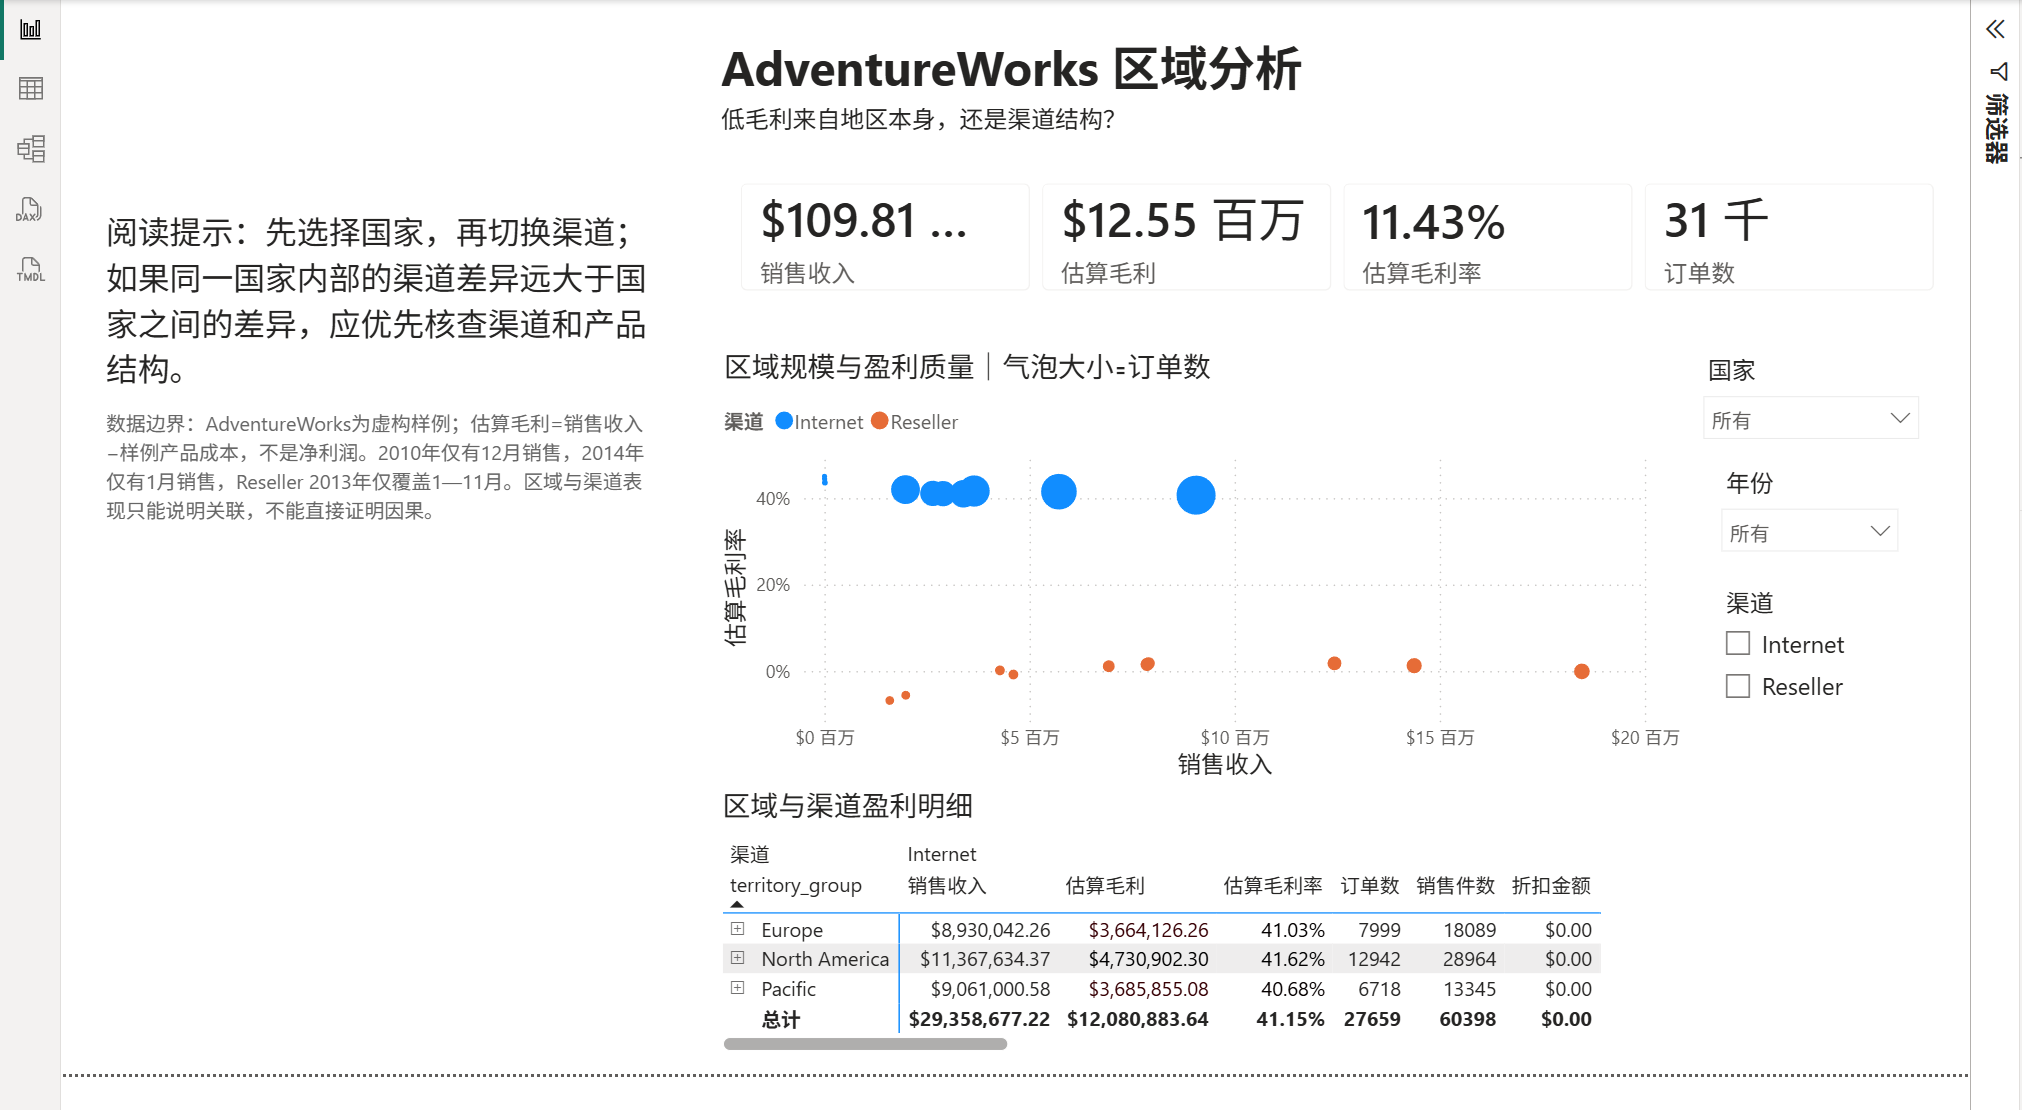

What the dashboard file says about the page in this screenshot:
{"tool":"powerbi","page":{"name":"区域分析","canvas":[1280,720],"ordinal":3},"visuals":[{"type":"textbox","box":[437.8,15.6,403.3,90],"z":0},{"type":"slicer","fields":{"Values":["DimDate.calendar_year"]},"box":[1103.3,305.6,138.9,75.6],"z":1000},{"type":"slicer","fields":{"Values":["DimTerritory.country"]},"box":[1091.1,230,164.4,75.6],"z":2000},{"type":"slicer","fields":{"Values":["FactSales.channel"]},"box":[1103.3,386.7,104.4,105.6],"z":3000},{"type":"cardVisual","fields":{"Data":["FactSales.销售收入","FactSales.估算毛利","FactSales.估算毛利率","FactSales.订单数"]},"box":[438.9,105.6,835.6,106.7],"z":4000},{"type":"scatterChart","title":"区域规模与盈利质量｜气泡大小=订单数","fields":{"X":["FactSales.销售收入"],"Y":["FactSales.估算毛利率"],"Size":["FactSales.订单数"],"Series":["FactSales.channel"],"Category":["DimTerritory.region"]},"box":[440,231.1,651.1,294.4],"z":5000},{"type":"pivotTable","title":"区域与渠道盈利明细","fields":{"Rows":["DimTerritory.territory_group","DimTerritory.country","DimTerritory.region"],"Columns":["FactSales.channel"],"Values":["FactSales.销售收入","FactSales.估算毛利","FactSales.估算毛利率","FactSales.订单数","FactSales.销售件数","FactSales.折扣金额"]},"box":[438.9,525.6,598.9,183.3],"z":6000},{"type":"textbox","box":[25.6,133.3,374.4,134.4],"z":7000},{"type":"textbox","box":[25.6,268.9,374.4,91.1],"z":8000}]}

Visuals, with their boxes on the page's 1280x720 design canvas (x1, y1, x2, y2). These are canvas units, not pixel positions in the 2022x1110 screenshot, which may show the page scaled, cropped or inside an application window:
textbox: locate(438, 16, 841, 106)
slicer - DimDate.calendar_year: locate(1103, 306, 1242, 381)
slicer - DimTerritory.country: locate(1091, 230, 1256, 306)
slicer - FactSales.channel: locate(1103, 387, 1208, 492)
cardVisual - FactSales.销售收入 x FactSales.估算毛利: locate(439, 106, 1274, 212)
"区域规模与盈利质量｜气泡大小=订单数" scatterChart: locate(440, 231, 1091, 526)
"区域与渠道盈利明细" pivotTable: locate(439, 526, 1038, 709)
textbox: locate(26, 133, 400, 268)
textbox: locate(26, 269, 400, 360)
